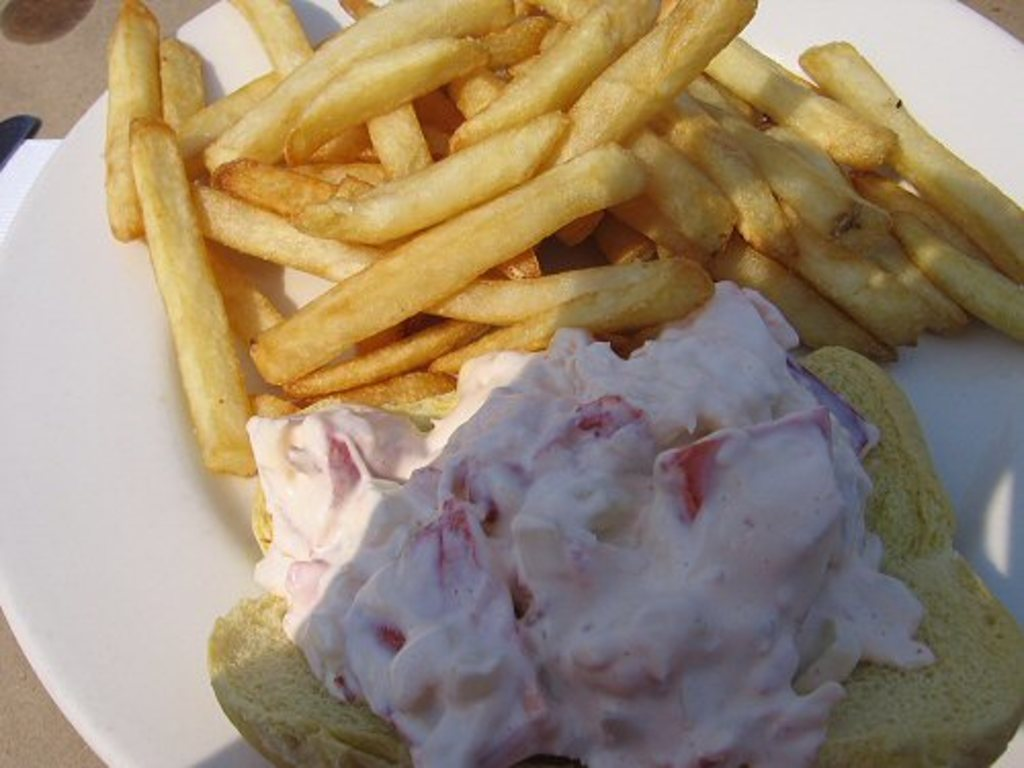French fries: (73, 28, 1003, 438)
